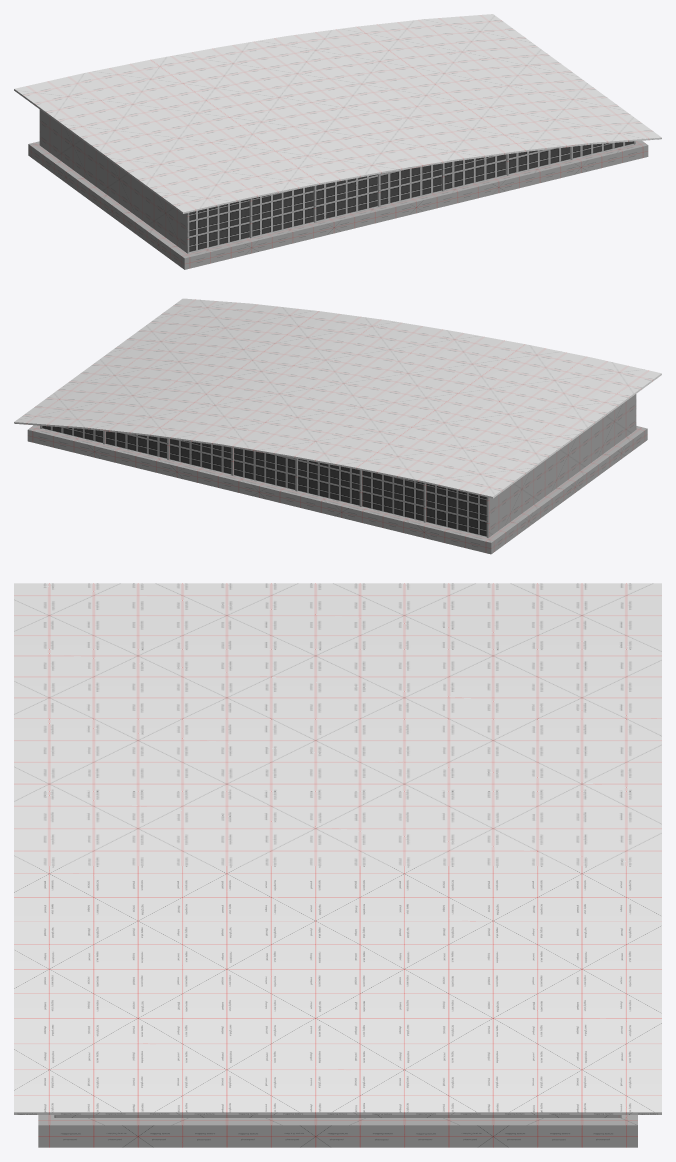
File: terminal_roof_a.FBX
3 views of the same model, one above another, from view 1: azimuth 30°, elevation 25°; view 2: azimuth 150°, elevation 25°; view 3: azimuth 270°, elevation 25° (orthographic). The views are drawn at different scales.
Parts seen in each view (by area): view 1: terminal_roof_a; view 2: terminal_roof_a; view 3: terminal_roof_a.
Part boxes in pixels (<box>): terminal_roof_a: <box>14,14,661,269</box>; terminal_roof_a: <box>14,298,661,554</box>; terminal_roof_a: <box>14,583,661,1147</box>.
Size of the model in its own units: 165 by 21.12 by 101.
